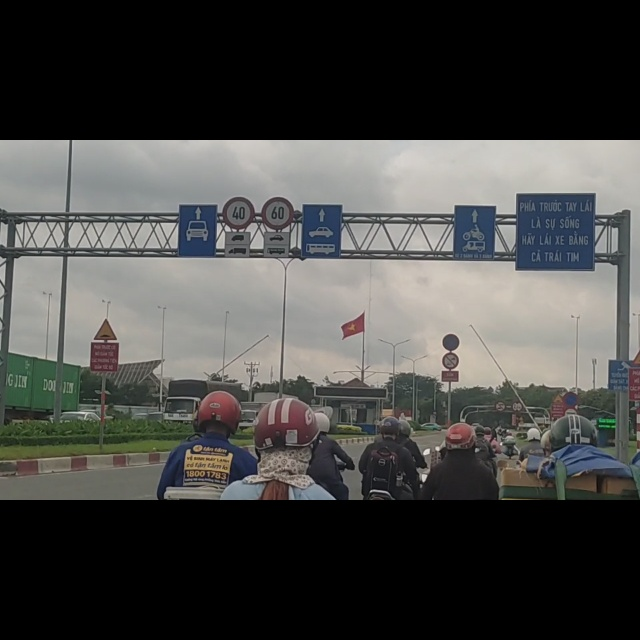bien_cam: (223, 101, 255, 160), (262, 101, 293, 159), (607, 386, 630, 444), (93, 318, 117, 357), (442, 344, 459, 375), (442, 378, 459, 408), (563, 448, 579, 474), (495, 462, 506, 482), (552, 448, 563, 467), (511, 465, 523, 482)
